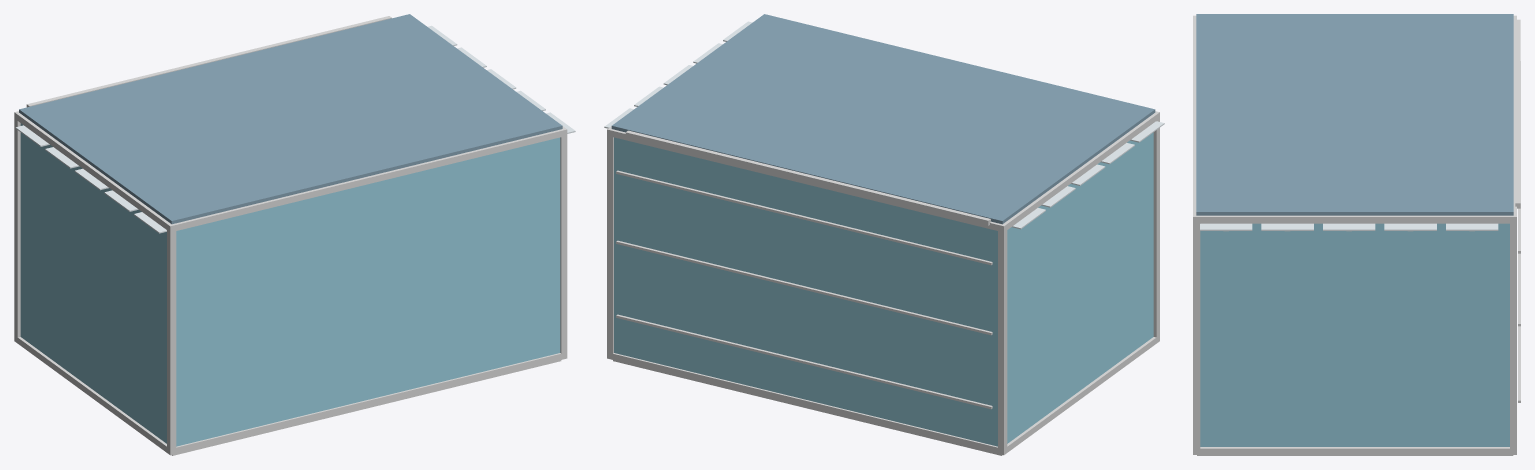
File: L70_01_TransparentSemiconductorCleanroom_Fitted.fbx
The picture shows the model from 3 angles, left to right: view 1: azimuth 30°, elevation 25°; view 2: azimuth 150°, elevation 25°; view 3: azimuth 270°, elevation 25°; orthographic projection. The views are drawn at different scales.
Visible parts, largest first — view 1: L70_TransparentSemiconductorCleanroom_Static__glass, L70_TransparentSemiconductorCleanroom_Static__tintB5C8D0, L70_TransparentSemiconductorCleanroom_Static__tint25D4F6, L70_TransparentSemiconductorCleanroom_Static__tintDCEDF8; view 2: L70_TransparentSemiconductorCleanroom_Static__glass, L70_TransparentSemiconductorCleanroom_Static__tintB5C8D0, L70_TransparentSemiconductorCleanroom_Static__tint25D4F6, L70_TransparentSemiconductorCleanroom_Static__tintDCEDF8; view 3: L70_TransparentSemiconductorCleanroom_Static__glass, L70_TransparentSemiconductorCleanroom_Static__tintB5C8D0, L70_TransparentSemiconductorCleanroom_Static__tint25D4F6.
Boxes of the visible parts, <box> form: L70_TransparentSemiconductorCleanroom_Static__glass: <box>15,14,575,446</box>; L70_TransparentSemiconductorCleanroom_Static__tintB5C8D0: <box>14,111,567,455</box>; L70_TransparentSemiconductorCleanroom_Static__tint25D4F6: <box>26,16,391,107</box>; L70_TransparentSemiconductorCleanroom_Static__tintDCEDF8: <box>171,360,561,455</box>; L70_TransparentSemiconductorCleanroom_Static__glass: <box>604,14,1164,446</box>; L70_TransparentSemiconductorCleanroom_Static__tintB5C8D0: <box>607,111,1159,455</box>; L70_TransparentSemiconductorCleanroom_Static__tint25D4F6: <box>625,130,990,225</box>; L70_TransparentSemiconductorCleanroom_Static__tintDCEDF8: <box>613,360,1002,455</box>; L70_TransparentSemiconductorCleanroom_Static__glass: <box>1196,14,1513,446</box>; L70_TransparentSemiconductorCleanroom_Static__tintB5C8D0: <box>1193,15,1520,454</box>; L70_TransparentSemiconductorCleanroom_Static__tint25D4F6: <box>1223,19,1520,231</box>.
Size of the model in its own units: 67.27 by 36.31 by 44.14.
